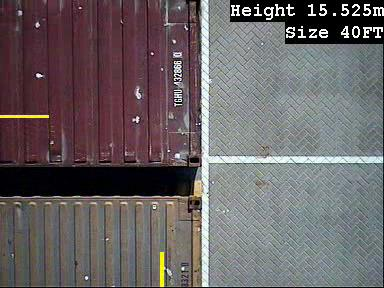groundmarker_2: (195, 47, 233, 109), (196, 225, 233, 287)
